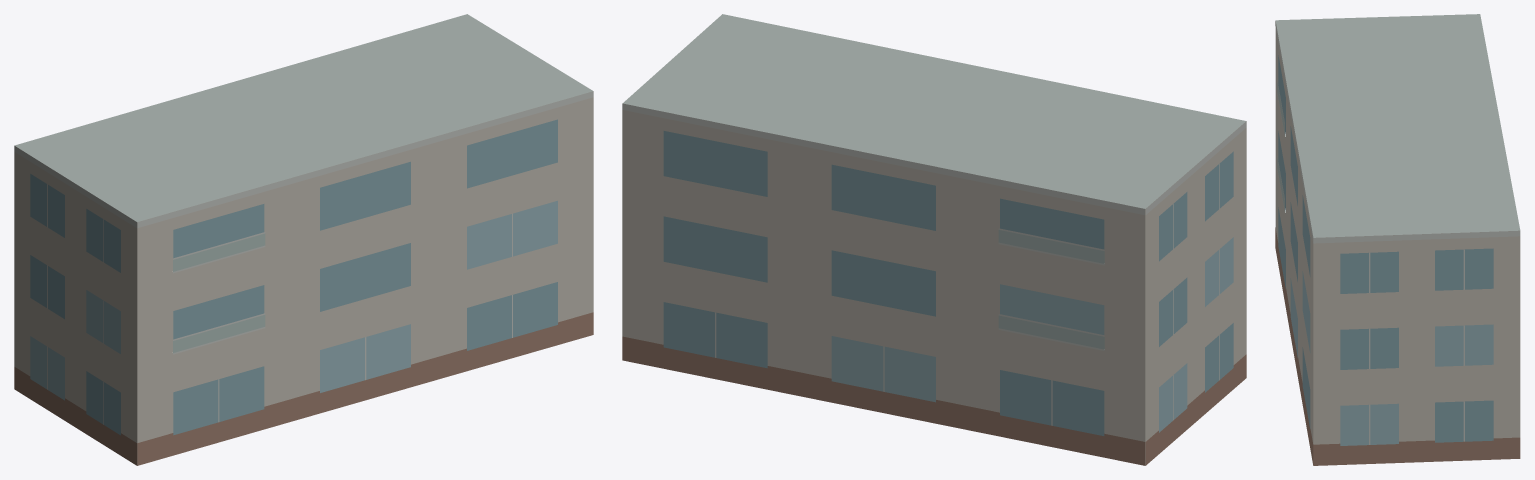
File: survey-upis-32745643.glb
3 views of the same model, side by side, from view 1: azimuth 30°, elevation 25°; view 2: azimuth 150°, elevation 25°; view 3: azimuth 270°, elevation 25° (orthographic). The views are drawn at different scales.
Visible parts, largest first — view 1: survey-upis-32745643.tmp; view 2: survey-upis-32745643.tmp; view 3: survey-upis-32745643.tmp.
Boxes of the visible parts, x1,y1,x2,y2 form: survey-upis-32745643.tmp: [14, 14, 593, 465]; survey-upis-32745643.tmp: [622, 14, 1246, 465]; survey-upis-32745643.tmp: [1275, 14, 1520, 465].
Size of the model in its own units: 20.65 by 9.8 by 9.55.
